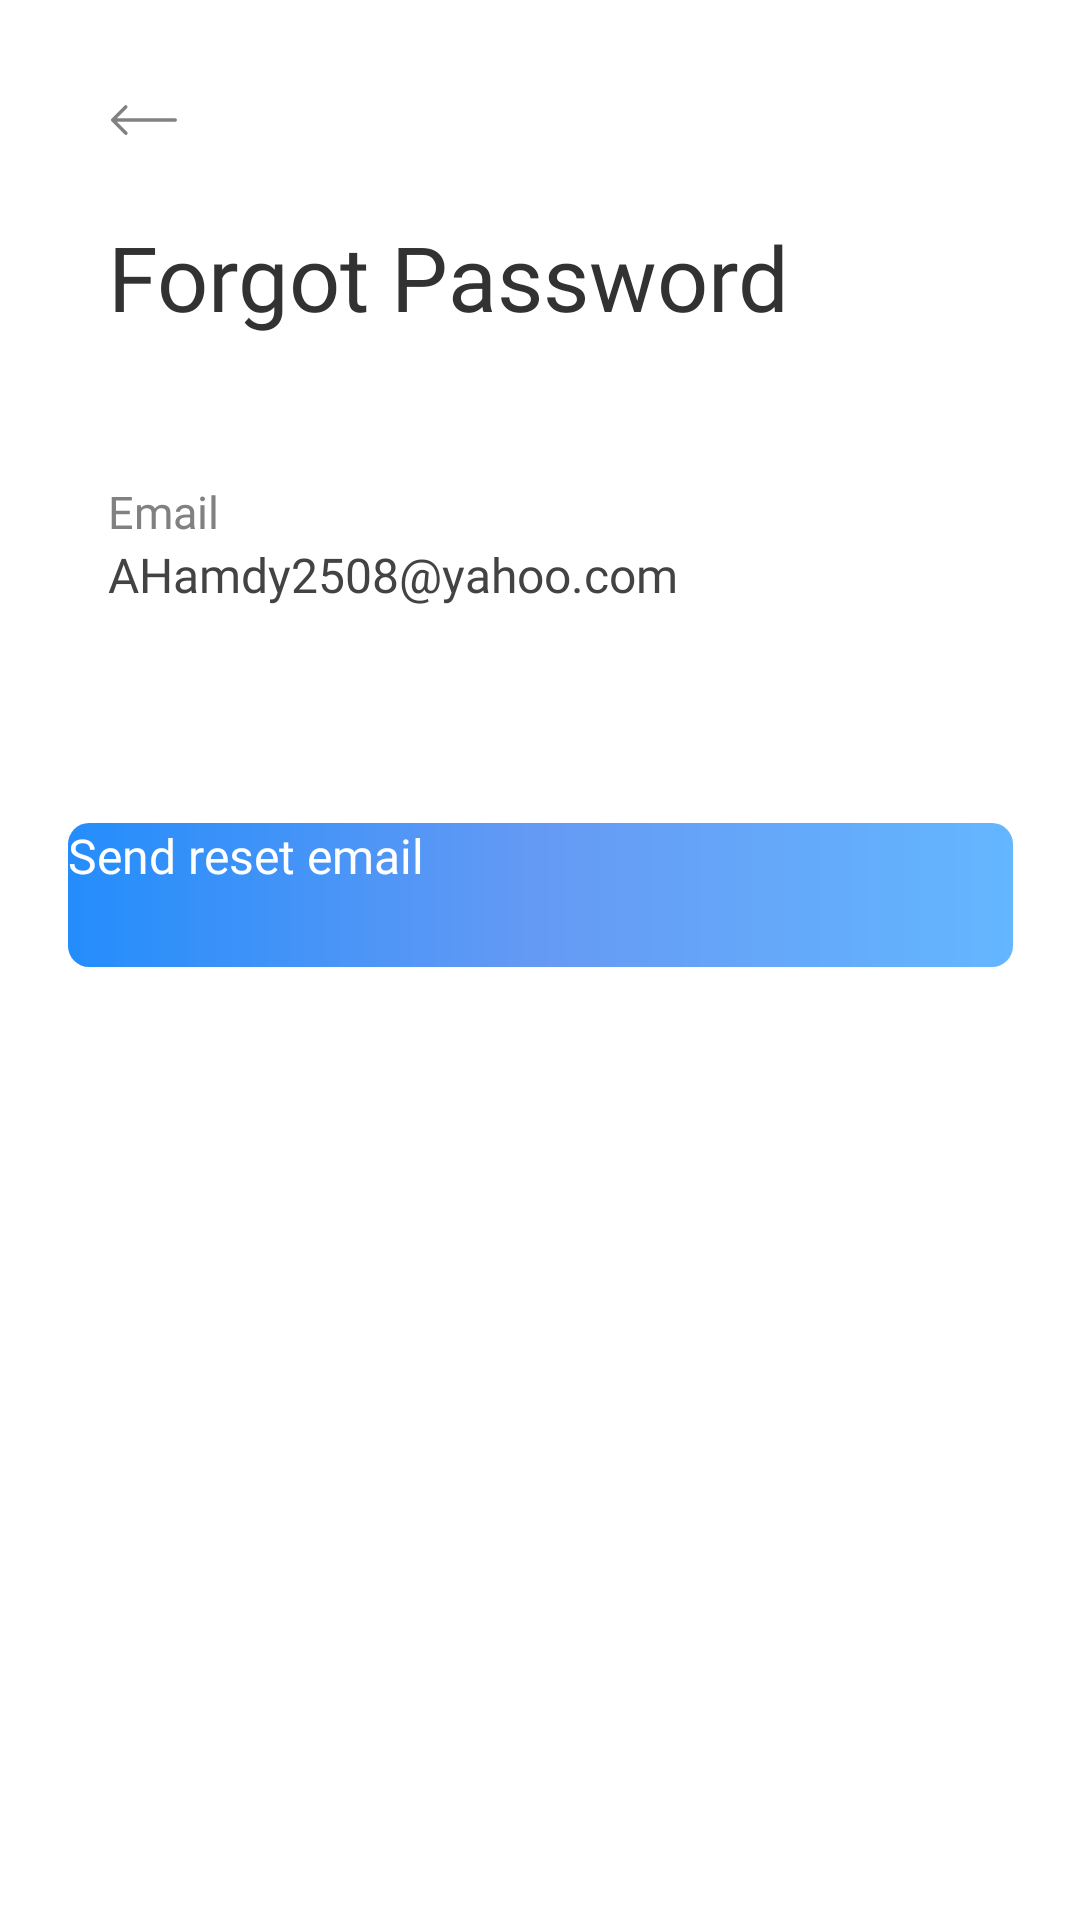

Icon bounding boxes for this 1080×1920 phone screenshot, format box=[x1, y1, x2, y2]:
back: box=[111, 105, 177, 135]
